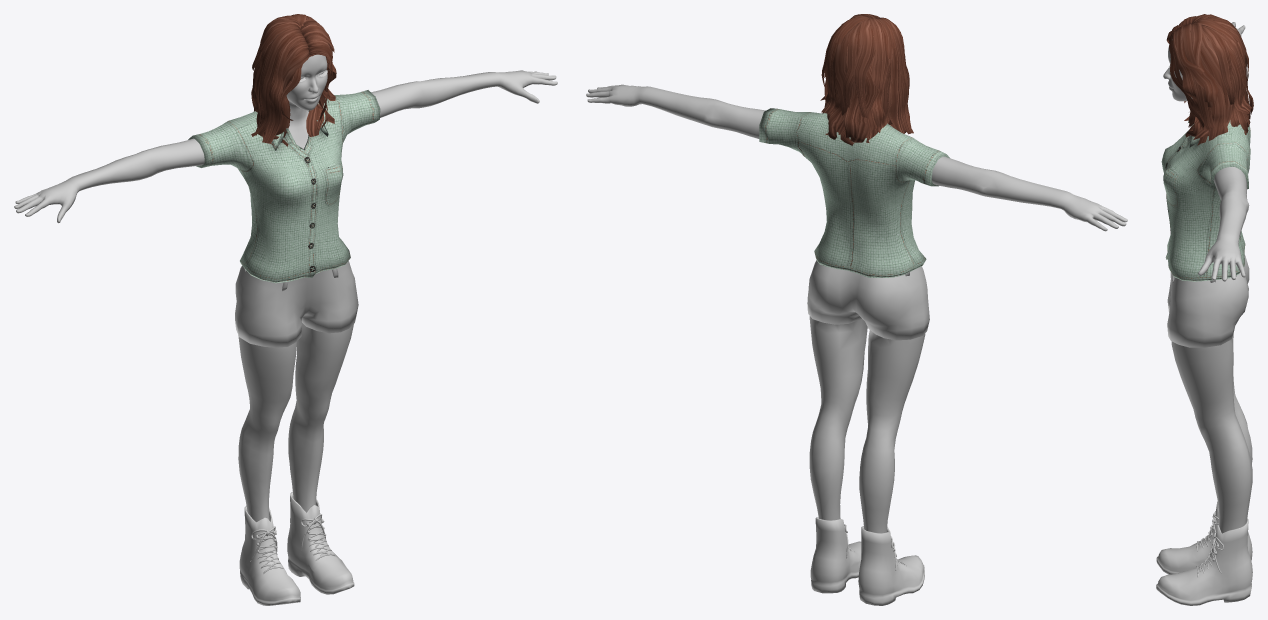
The model's file is girl game.obj.
3 views of the same model, side by side, from view 1: azimuth 30°, elevation 25°; view 2: azimuth 150°, elevation 25°; view 3: azimuth 270°, elevation 25° (orthographic).
Parts seen in each view (by area): view 1: Body, Tops, Bottoms, Shoes, Hair; view 2: Body, Tops, Hair, Bottoms, Shoes; view 3: Body, Tops, Hair, Shoes, Bottoms.
Part boxes in pixels (bbox=[...]): Body: bbox=[14, 54, 557, 521]; Tops: bbox=[188, 90, 380, 283]; Bottoms: bbox=[235, 261, 358, 347]; Shoes: bbox=[239, 492, 354, 605]; Hair: bbox=[251, 14, 336, 147]; Body: bbox=[586, 84, 1127, 533]; Tops: bbox=[759, 108, 949, 277]; Hair: bbox=[820, 14, 913, 145]; Bottoms: bbox=[807, 260, 929, 340]; Shoes: bbox=[810, 516, 924, 605]; Body: bbox=[1163, 22, 1252, 533]; Tops: bbox=[1161, 92, 1250, 281]; Hair: bbox=[1166, 14, 1253, 145]; Shoes: bbox=[1156, 501, 1252, 605]; Bottoms: bbox=[1167, 255, 1249, 347].
Bounding box in the file's own units: 179 × 180 × 28.28.
